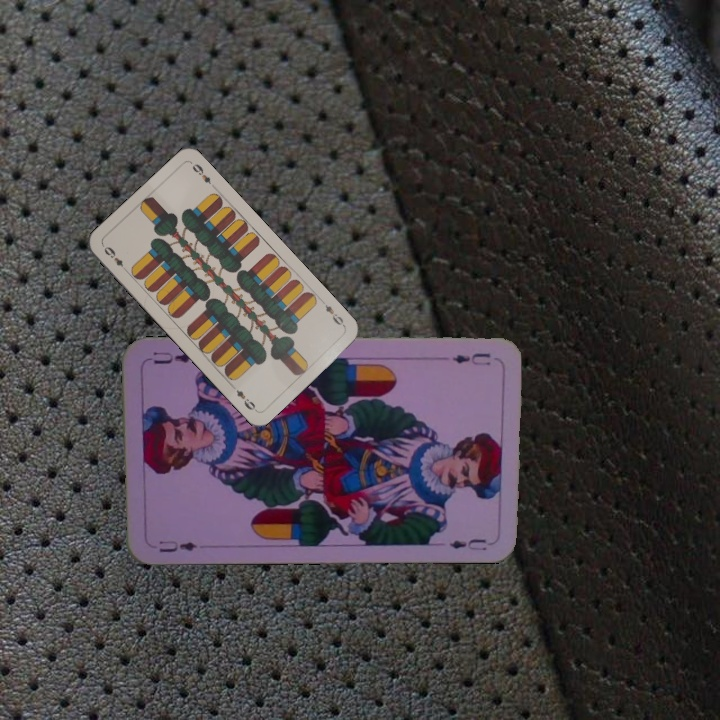E9: (317, 296, 348, 330), (99, 241, 130, 274)
EU: (448, 349, 493, 369), (155, 536, 199, 555)
